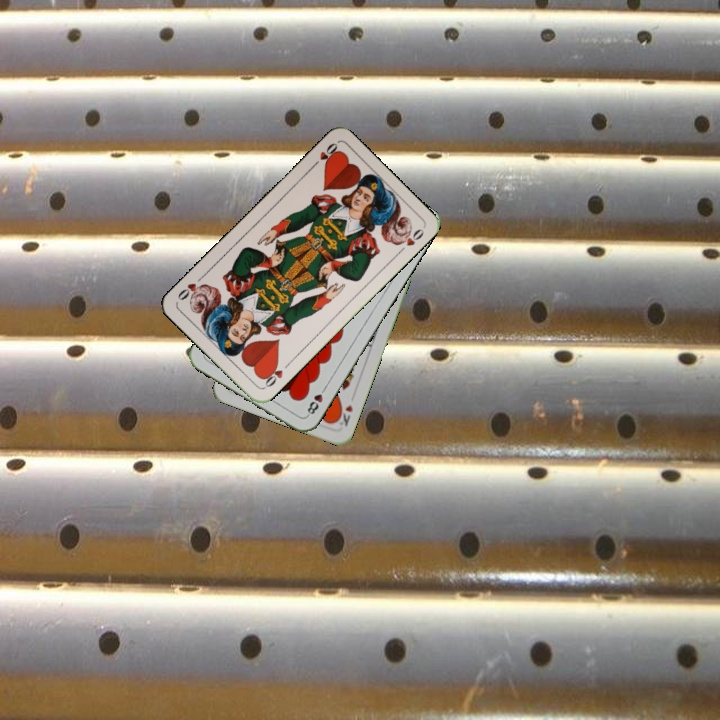H8: (303, 382, 329, 419)
HK: (332, 401, 356, 429)
HO: (307, 138, 341, 171), (259, 358, 293, 390)
